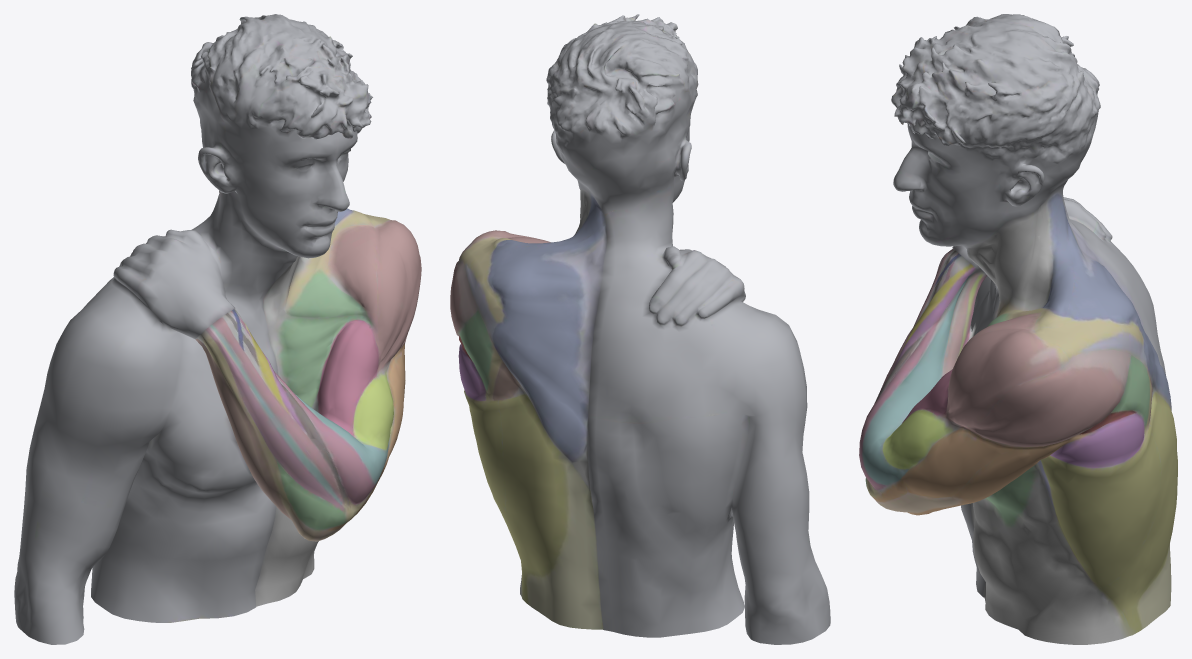
The model's file is 石膏头像_男中青年_opt.glb.
3 renders of one model, left to right at view 1: azimuth 30°, elevation 25°; view 2: azimuth 150°, elevation 25°; view 3: azimuth 270°, elevation 25°, orthographic. The views are drawn at different scales.
Visible parts, largest first — view 1: CrazyPoseShell; view 2: CrazyPoseShell; view 3: CrazyPoseShell.
Part boxes in pixels (box(x1,y1,x2,y2)): CrazyPoseShell: box(14, 14, 421, 644); CrazyPoseShell: box(450, 14, 830, 644); CrazyPoseShell: box(859, 14, 1177, 644).
Size of the model in its own units: 0.2847 by 0.4 by 0.1964.
Materials: 2 (1 with a texture image).
